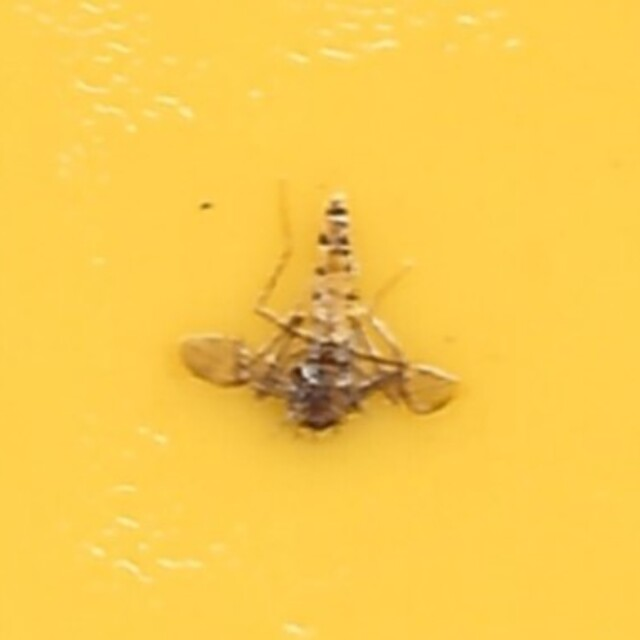Nematocera: (168, 195, 472, 445)
